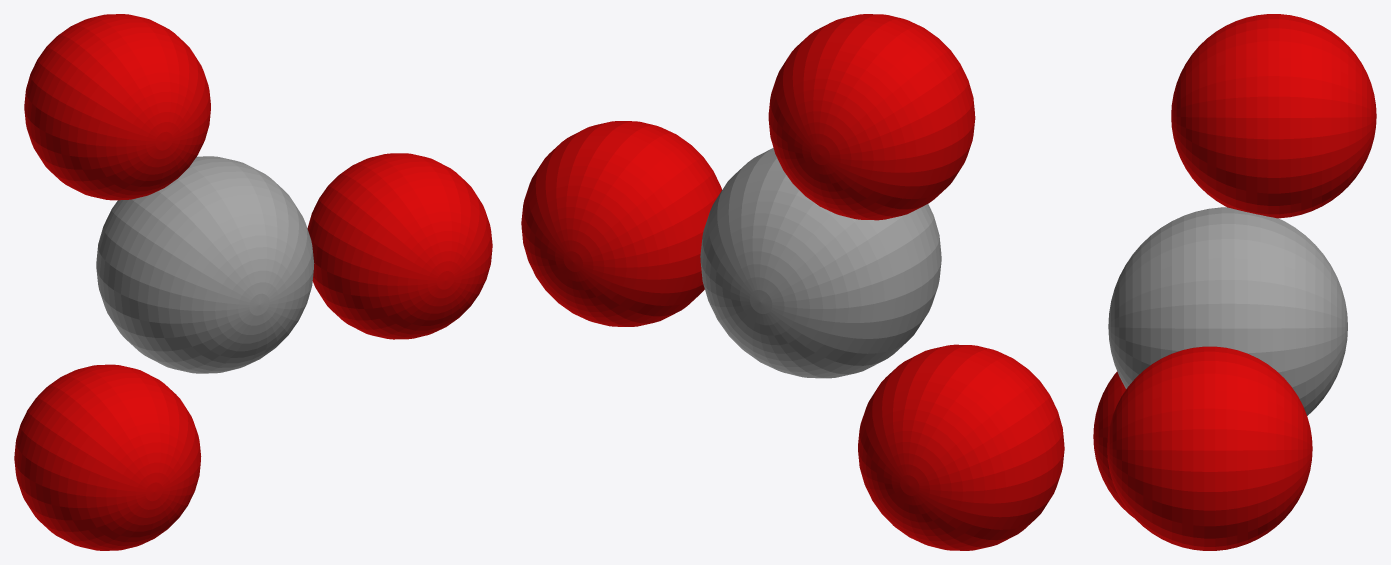
The model's file is Sodium Carbonate.glb.
The picture shows the model from 3 angles, left to right: view 1: azimuth 30°, elevation 25°; view 2: azimuth 150°, elevation 25°; view 3: azimuth 270°, elevation 25°; orthographic projection. The views are drawn at different scales.
Visible parts, largest first — view 1: world; view 2: world; view 3: world.
Part boxes in pixels (<box>): world: <box>14,14,492,550</box>; world: <box>521,14,1064,550</box>; world: <box>1093,14,1376,550</box>.
Bounding box in the file's own units: 3.4 × 3.41 × 1.65.
